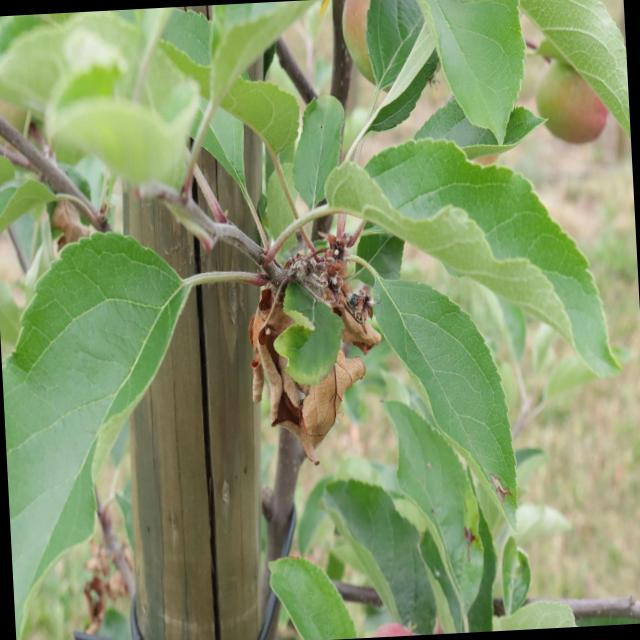-FireBlight-: (318, 239, 384, 377), (246, 270, 300, 438), (291, 341, 369, 448)
